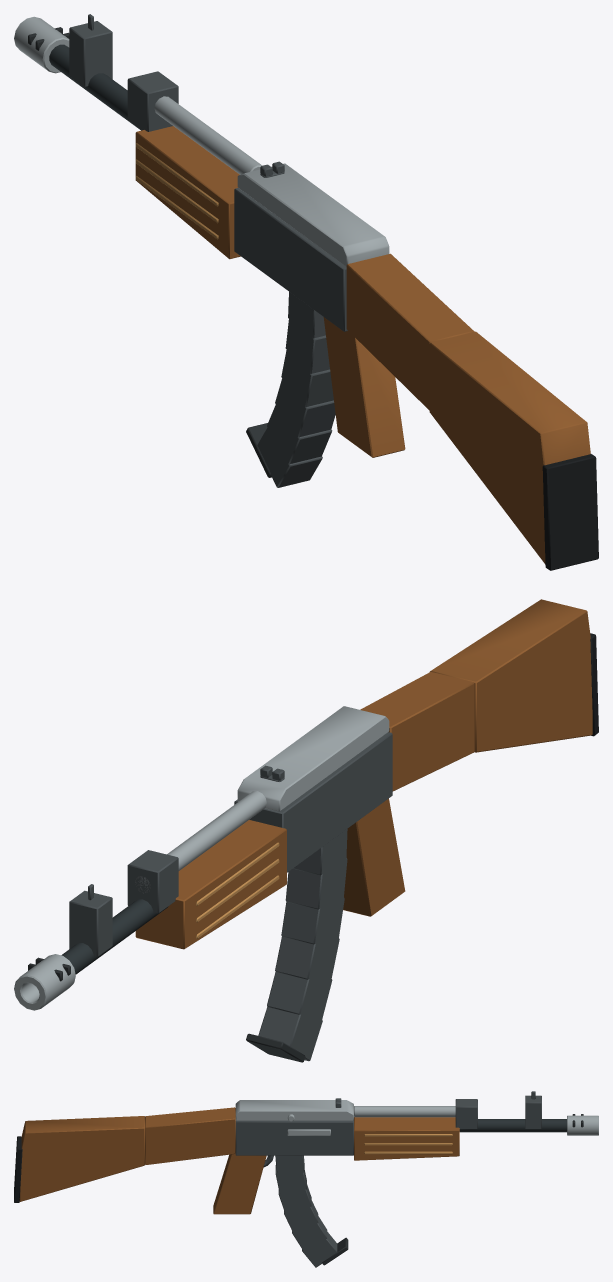
The model's file is W_FusilAssaut.glb.
The picture shows the model from 3 angles, top to bottom: view 1: azimuth 30°, elevation 25°; view 2: azimuth 150°, elevation 25°; view 3: azimuth 270°, elevation 25°; orthographic projection. The views are drawn at different scales.
Parts seen in each view (by area): view 1: W_FusilAssaut; view 2: W_FusilAssaut; view 3: W_FusilAssaut.
Part boxes in pixels (left/top/right/bottom): W_FusilAssaut: left=14, top=14, right=598, bottom=570; W_FusilAssaut: left=14, top=599, right=598, bottom=1062; W_FusilAssaut: left=14, top=1091, right=598, bottom=1267.
Size of the model in its own units: 0.0556 by 0.2726 by 0.8402.
